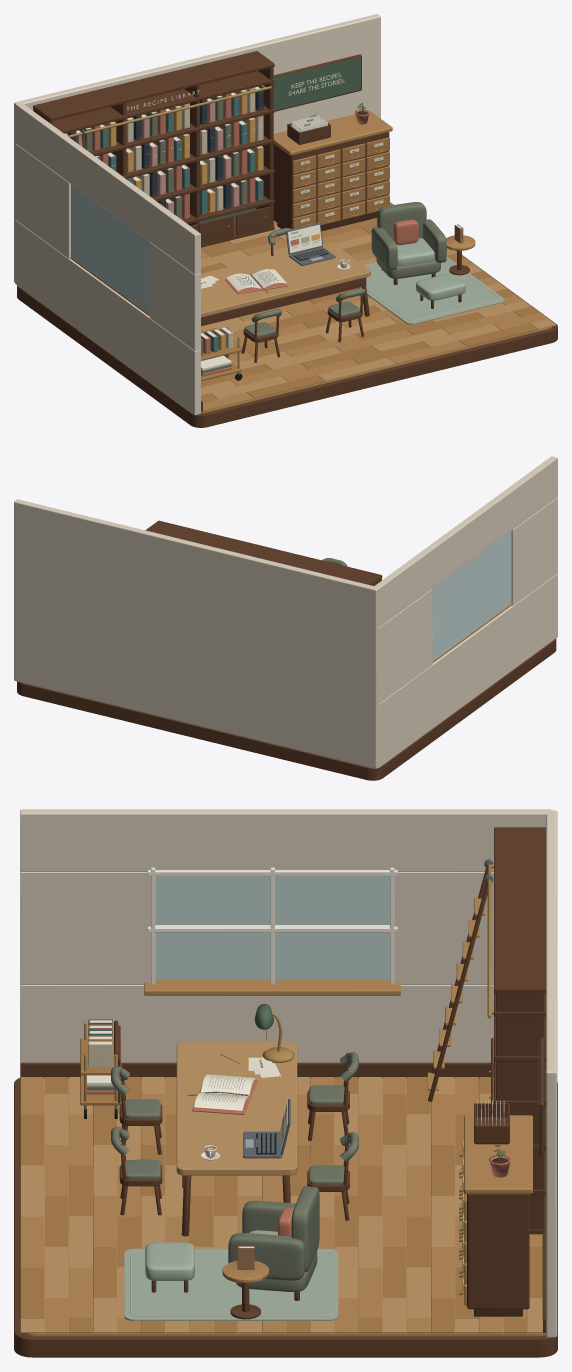
File: sams-library.glb
3 renders of one model, top to bottom at view 1: azimuth 30°, elevation 25°; view 2: azimuth 150°, elevation 25°; view 3: azimuth 270°, elevation 25°, orthographic. The views are drawn at different scales.
Parts seen in each view (by area): view 1: Sam's library; view 2: Sam's library; view 3: Sam's library.
Boxes of the visible parts, <box> form: Sam's library: <box>14,14,557,427</box>; Sam's library: <box>14,456,557,780</box>; Sam's library: <box>14,809,557,1357</box>.
Size of the model in its own units: 7.76 by 3.91 by 6.76.
